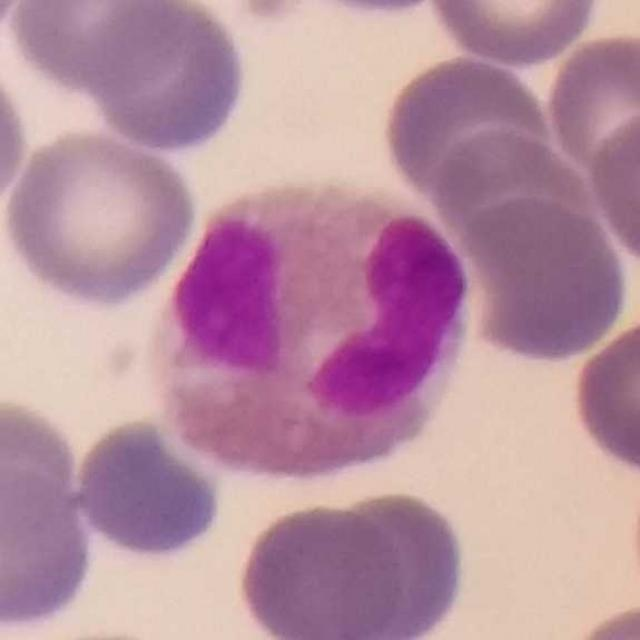Eosinophil: (159, 166, 486, 482)
RBC: (0, 124, 200, 312), (459, 190, 632, 368), (376, 50, 552, 209), (76, 0, 247, 158), (232, 499, 410, 639), (315, 486, 473, 640), (69, 413, 227, 566), (10, 0, 199, 97), (0, 462, 98, 637), (543, 28, 640, 178), (0, 393, 87, 552), (566, 310, 640, 481), (424, 0, 606, 68), (584, 106, 640, 276), (0, 74, 32, 201), (556, 599, 640, 640), (329, 0, 433, 19)
